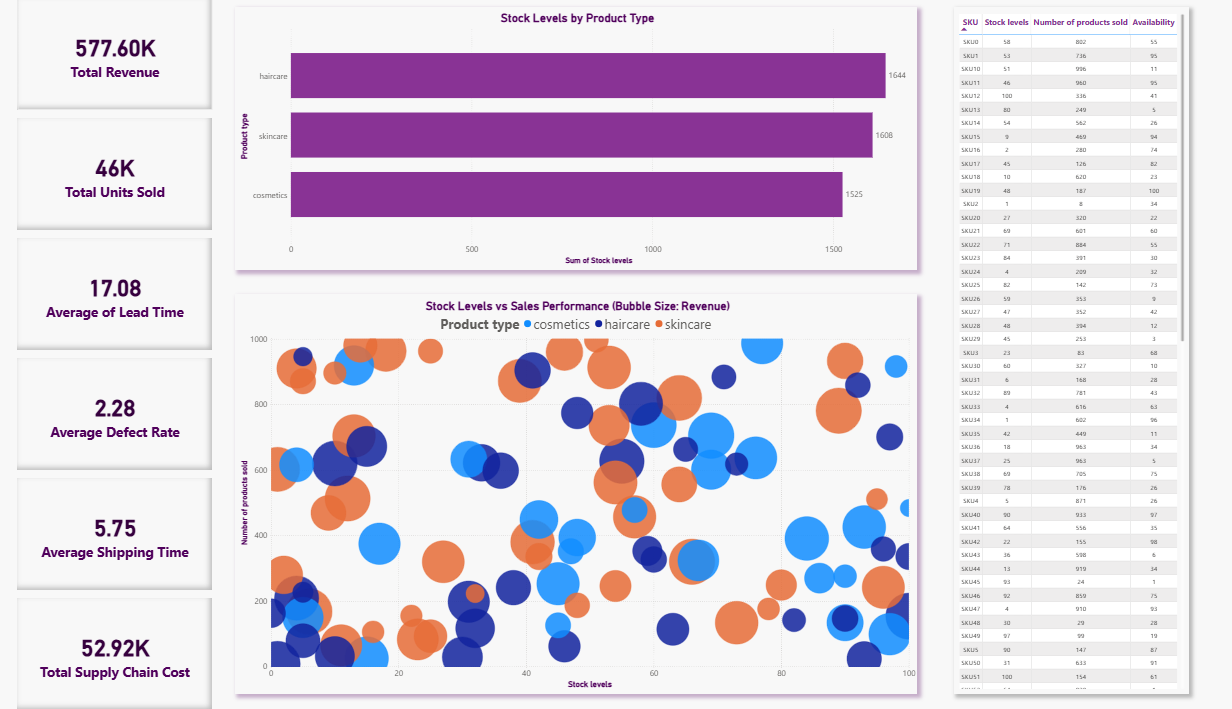

What the dashboard file says about the page in this screenshot:
{"tool":"powerbi","page":{"name":"Inventory & Demand Analysis","canvas":[3291,1900],"ordinal":1},"visuals":[{"type":"card","fields":{"Values":["Sum(supply_chain_data.Revenue generated)"]},"box":[45,0,520,300],"z":0},{"type":"card","fields":{"Values":["Sum(supply_chain_data.Number of products sold)"]},"box":[45,320,520,300],"z":1000},{"type":"card","fields":{"Values":["Avg(supply_chain_data.Lead time)"]},"box":[45,640,520,300],"z":2000},{"type":"card","fields":{"Values":["Sum(supply_chain_data.Costs)"]},"box":[45,1600,520,300],"z":3000},{"type":"card","fields":{"Values":["Avg(supply_chain_data.Shipping times)"]},"box":[45,1280,520,300],"z":4000},{"type":"card","fields":{"Values":["Avg(supply_chain_data.Defect rates)"]},"box":[45,960,520,300],"z":5000},{"type":"barChart","title":"Stock Levels by Product Type","fields":{"Category":["supply_chain_data.Product type"],"Y":["Sum(supply_chain_data.Stock levels)"]},"box":[626.7,23.3,1820,703.3],"z":6000},{"type":"scatterChart","title":"Stock Levels vs Sales Performance (Bubble Size: Revenue)","fields":{"X":["supply_chain_data.Stock levels"],"Y":["supply_chain_data.Number of products sold"],"Size":["Sum(supply_chain_data.Revenue generated)"],"Series":["supply_chain_data.Product type"]},"box":[626.7,790,1820,1066.7],"z":7000},{"type":"tableEx","fields":{"Values":["supply_chain_data.SKU","supply_chain_data.Stock levels","supply_chain_data.Number of products sold","supply_chain_data.Availability"]},"box":[2543.8,23.8,627.5,1832.5],"z":8000}]}

Visuals, with their boxes in screenshot pixels (x1, y1, x2, y2), scaled from the page's 3291x1900 canvas onto the 1232x709 screenshot:
card - Sum(supply_chain_data.Revenue generated): 17:0:212:112
card - Sum(supply_chain_data.Number of products sold): 17:119:212:231
card - Avg(supply_chain_data.Lead time): 17:239:212:351
card - Sum(supply_chain_data.Costs): 17:597:212:708
card - Avg(supply_chain_data.Shipping times): 17:478:212:590
card - Avg(supply_chain_data.Defect rates): 17:358:212:470
"Stock Levels by Product Type" barChart: 235:9:916:271
"Stock Levels vs Sales Performance (Bubble Size: Revenue)" scatterChart: 235:295:916:693
tableEx - supply_chain_data.SKU x supply_chain_data.Stock levels: 952:9:1187:693
